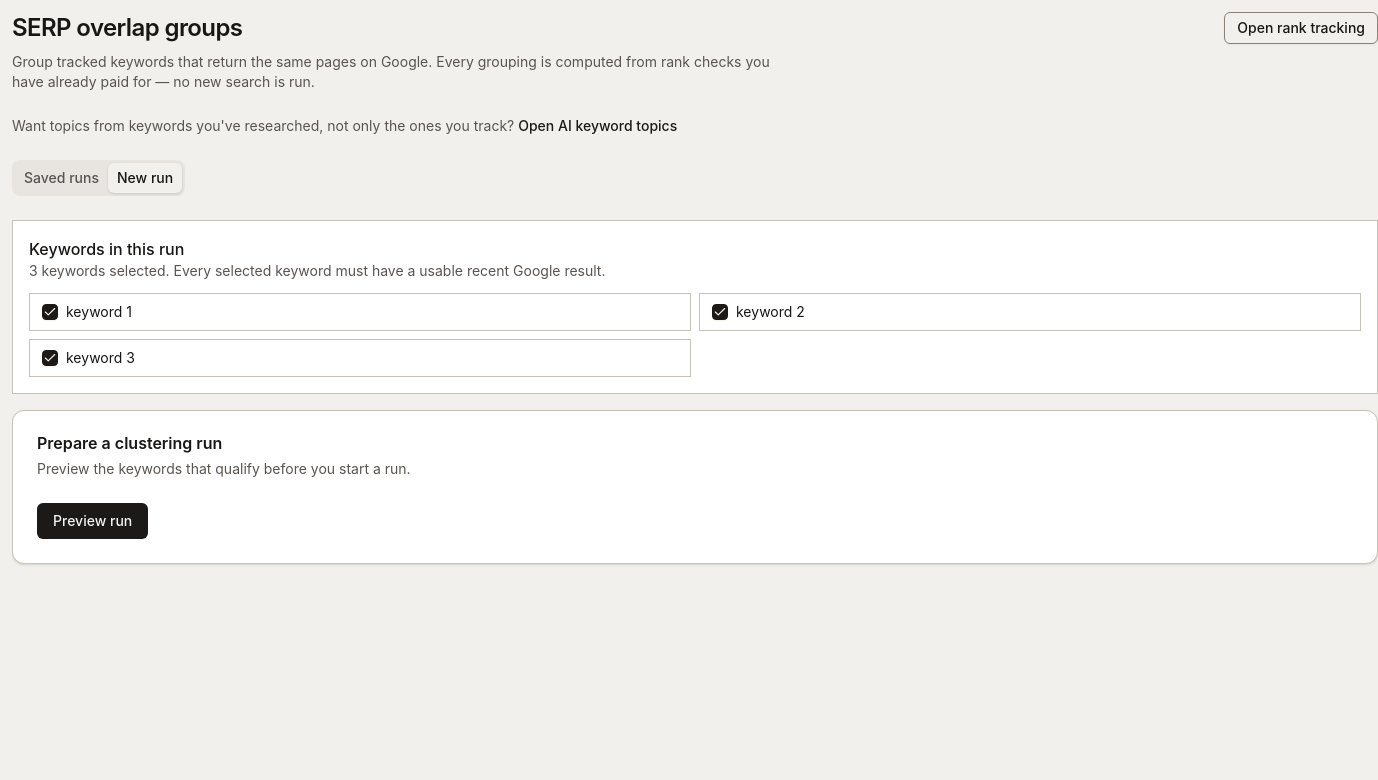
Test: KeywordClustersPage › maps a 503 on preview to the disabled state
Click the button with test id "keyword-clusters-preview-button" at [93, 521], box [37,503,148,539]
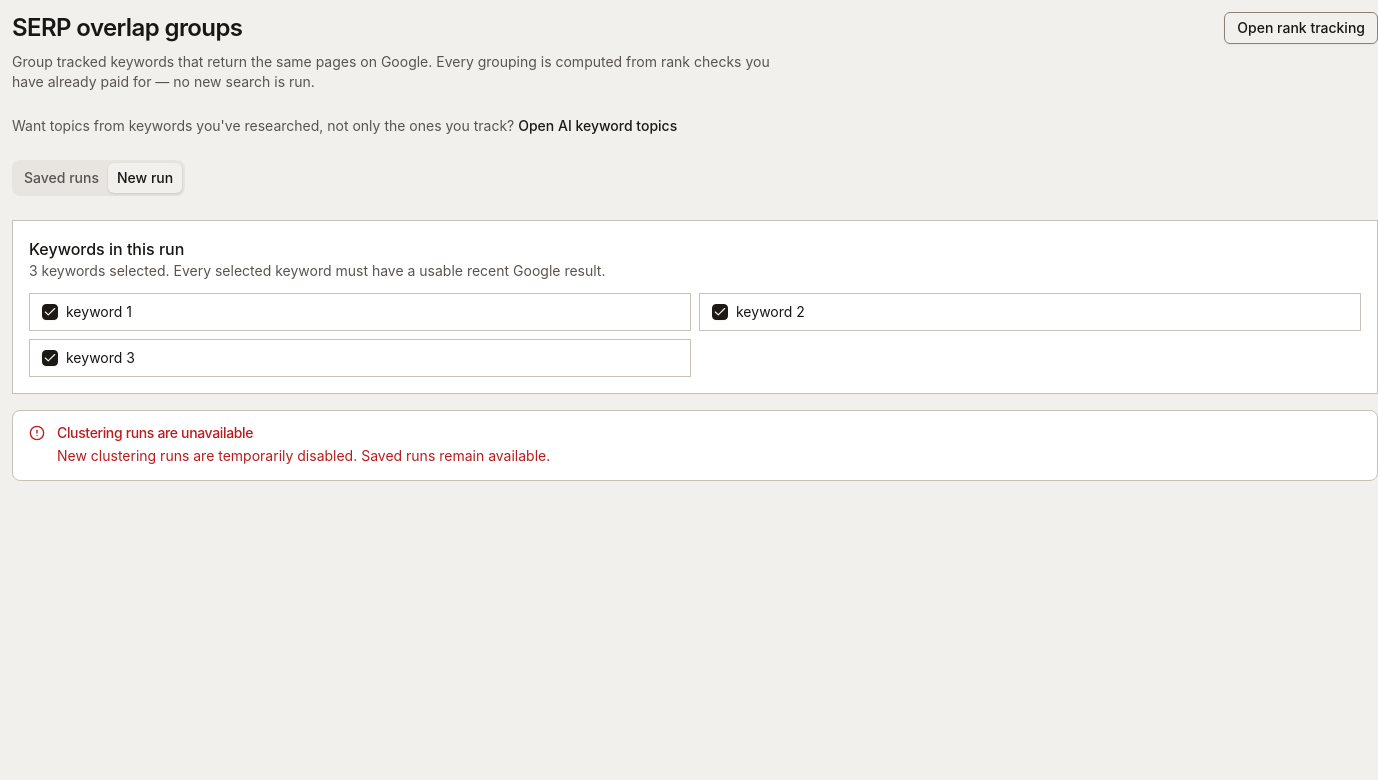
Now the message with test id "keyword-clusters-state-disabled" is shown, box [12,410,1377,481]
